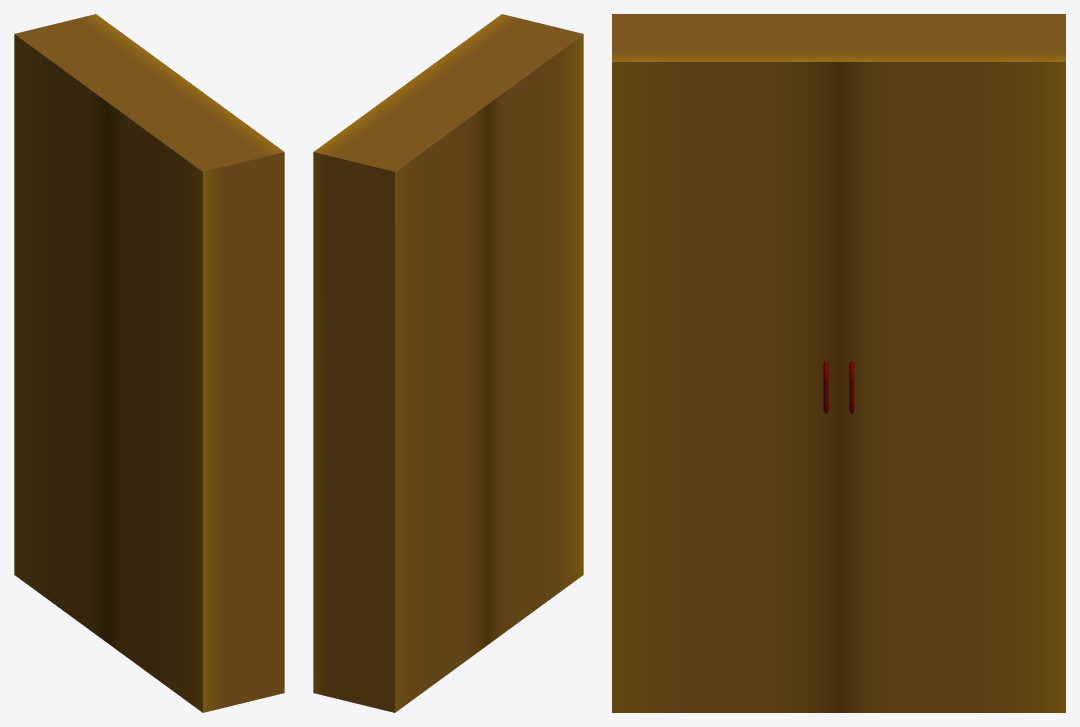
Rendered from Cabinet_FBX_001.fbx.
The picture shows the model from 3 angles, left to right: view 1: azimuth 30°, elevation 25°; view 2: azimuth 150°, elevation 25°; view 3: azimuth 270°, elevation 25°; orthographic projection. The views are drawn at different scales.
Visible parts, largest first — view 1: pCylinder3; view 2: pCylinder3; view 3: pCylinder3.
Boxes of the visible parts, x1,y1,x2,y2 form: pCylinder3: (14,14,284,712); pCylinder3: (313,14,583,712); pCylinder3: (612,14,1065,712).
Bounding box in the file's own units: 34.68 × 190 × 120.
